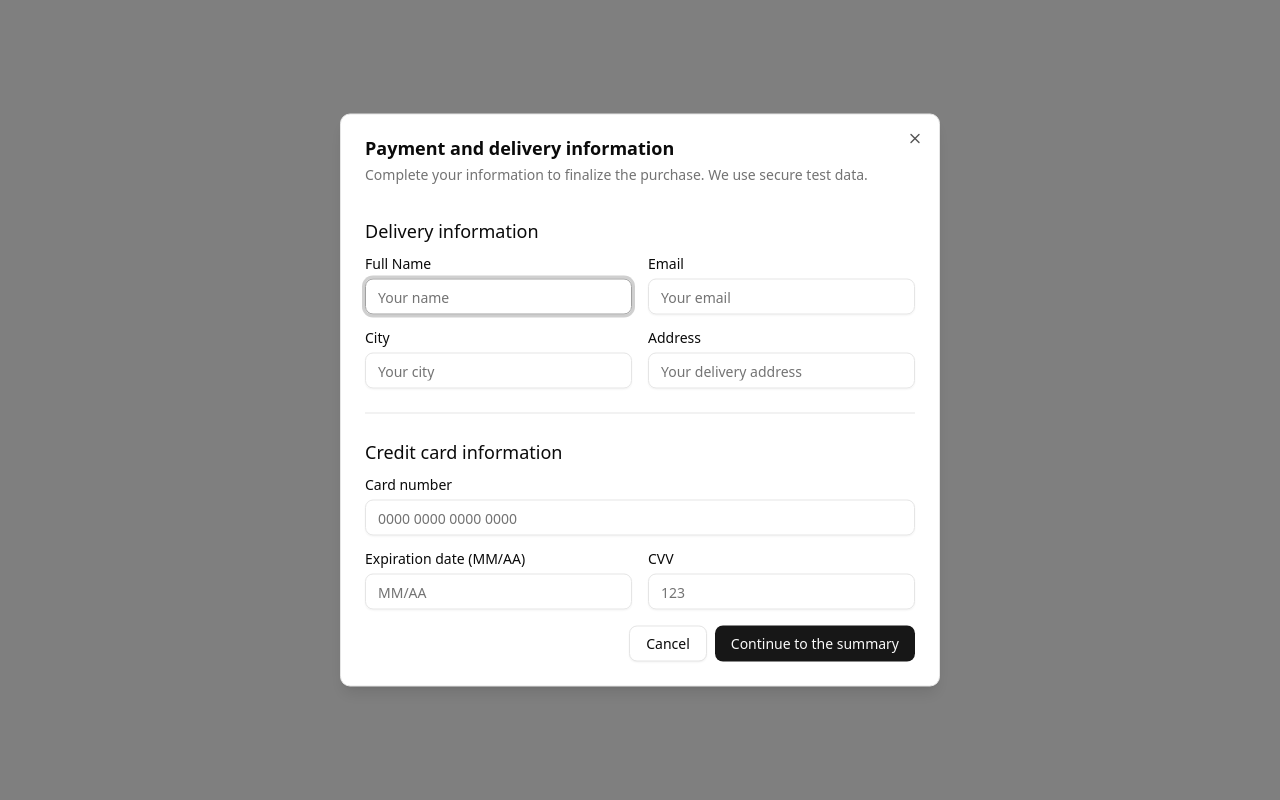
it: CheckoutModal › Validación de formulario › debería validar el formato de la fecha de expiración
The image size is (1280, 800).
# Fecha inválida
In the field labelled "Expiration date (MM/AA)": (498, 592) x1=365 y1=574 x2=632 y2=610, type "13/25"
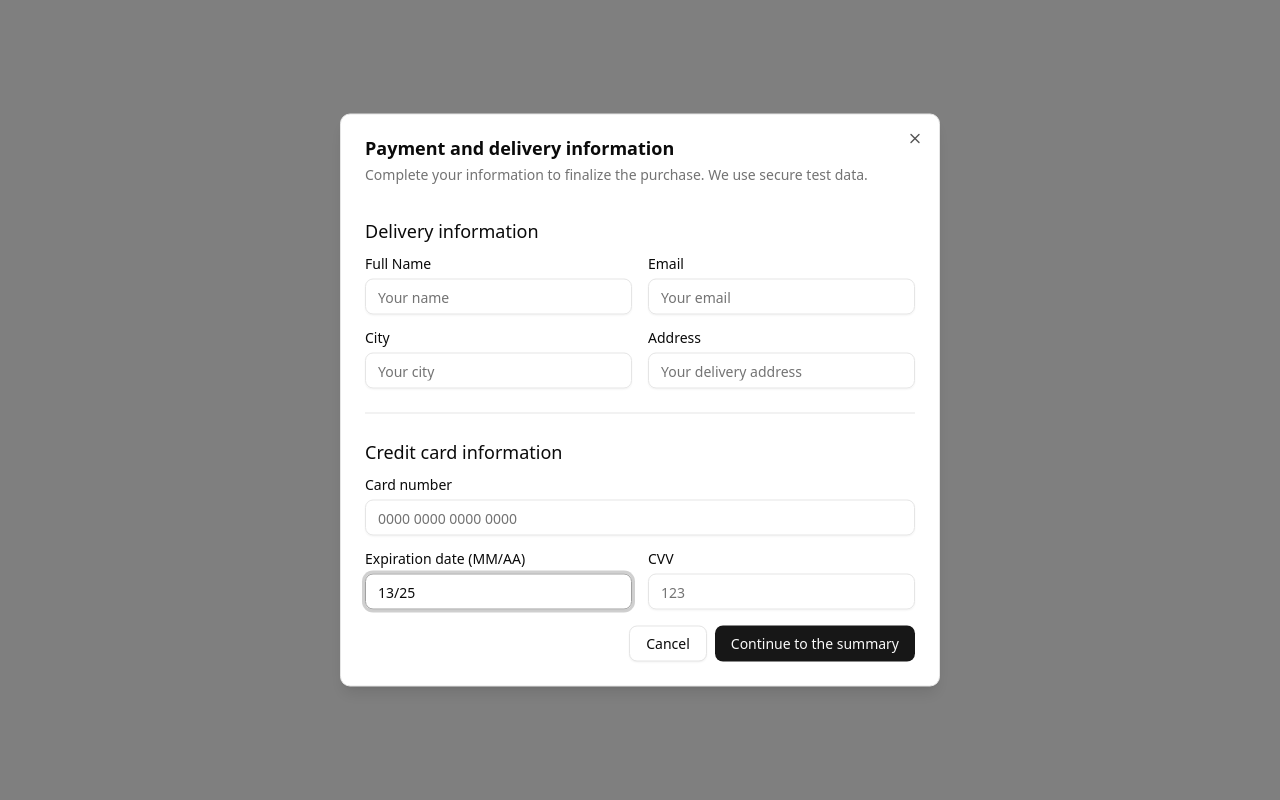
Click the button "Continue to the summary": (815, 644) x1=715 y1=626 x2=915 y2=662
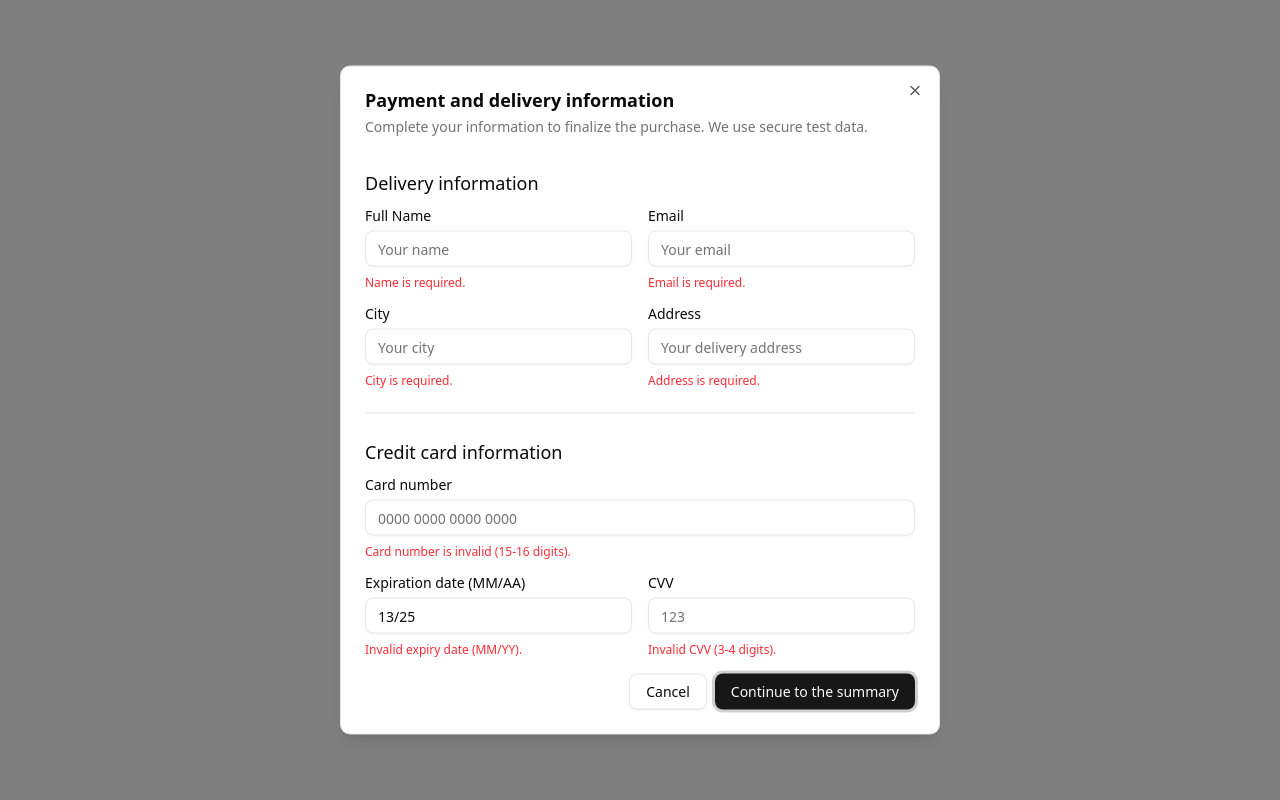
Now the text "Invalid expiry date (MM/YY)." is shown, box x1=365 y1=640 x2=522 y2=658
